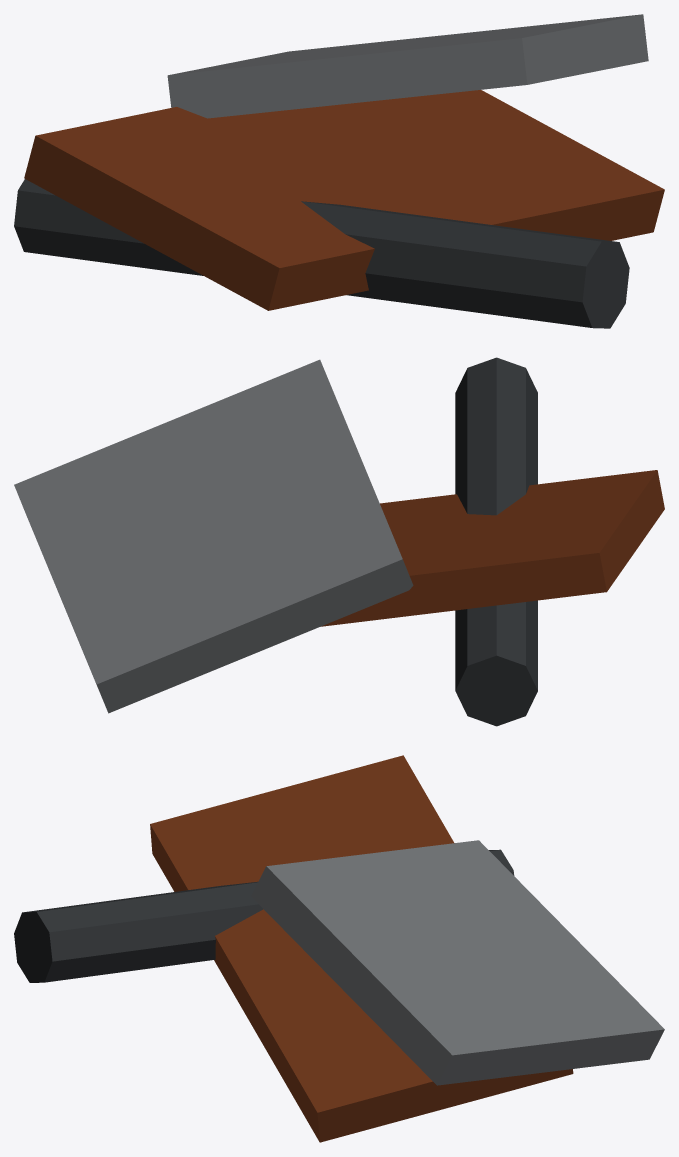
Rendered from Item_Scrap.fbx.
The picture shows the model from 3 angles, top to bottom: view 1: azimuth 30°, elevation 25°; view 2: azimuth 150°, elevation 25°; view 3: azimuth 270°, elevation 25°; orthographic projection. The views are drawn at different scales.
Parts seen in each view (by area): view 1: Item_Scrap; view 2: Item_Scrap; view 3: Item_Scrap.
Boxes of the visible parts, <box> form: Item_Scrap: <box>14,14,664,328</box>; Item_Scrap: <box>14,357,664,726</box>; Item_Scrap: <box>14,755,664,1142</box>.
Bounding box in the file's own units: 0.3172 × 0.1209 × 0.3381.
